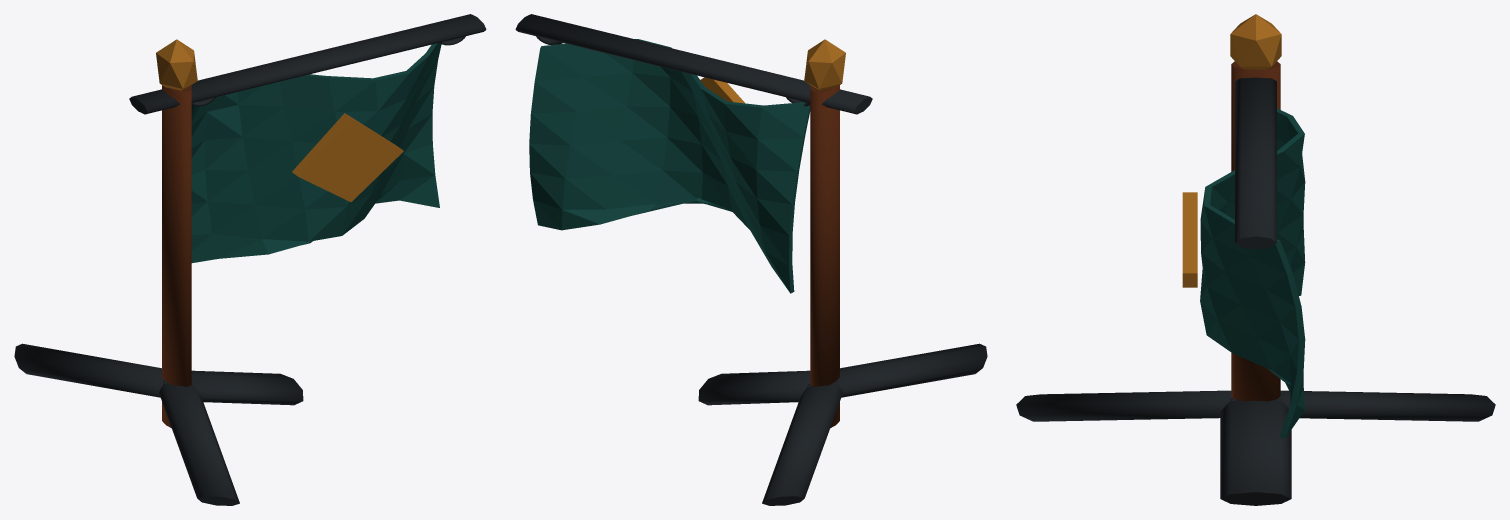
The model's file is banner.obj.
The picture shows the model from 3 angles, left to right: view 1: azimuth 30°, elevation 25°; view 2: azimuth 150°, elevation 25°; view 3: azimuth 270°, elevation 25°; orthographic projection. The views are drawn at different scales.
Visible parts, largest first — view 1: banner; view 2: banner; view 3: banner.
Part boxes in pixels (x1,y1,x2,y2): banner: [14, 14, 486, 505]; banner: [515, 14, 987, 505]; banner: [1016, 14, 1495, 505].
Bounding box in the file's own units: 1 × 1 × 1.
